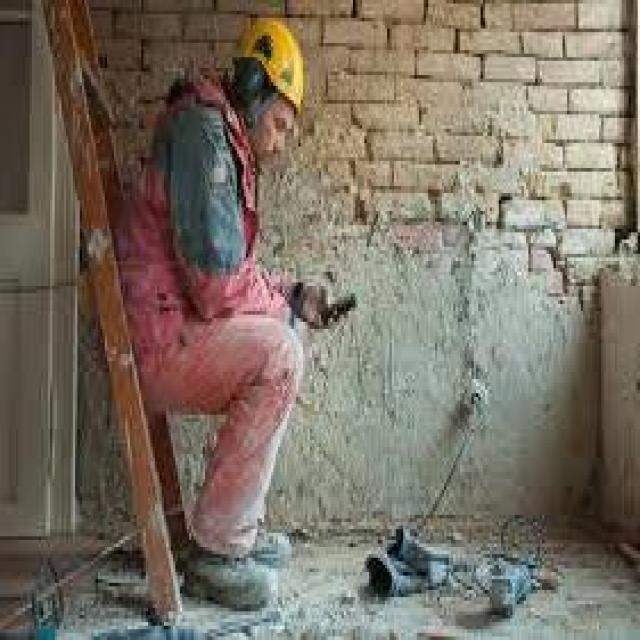Reflective-Jacket: (100, 78, 298, 464)
Safety-Helmet: (228, 10, 321, 128)
